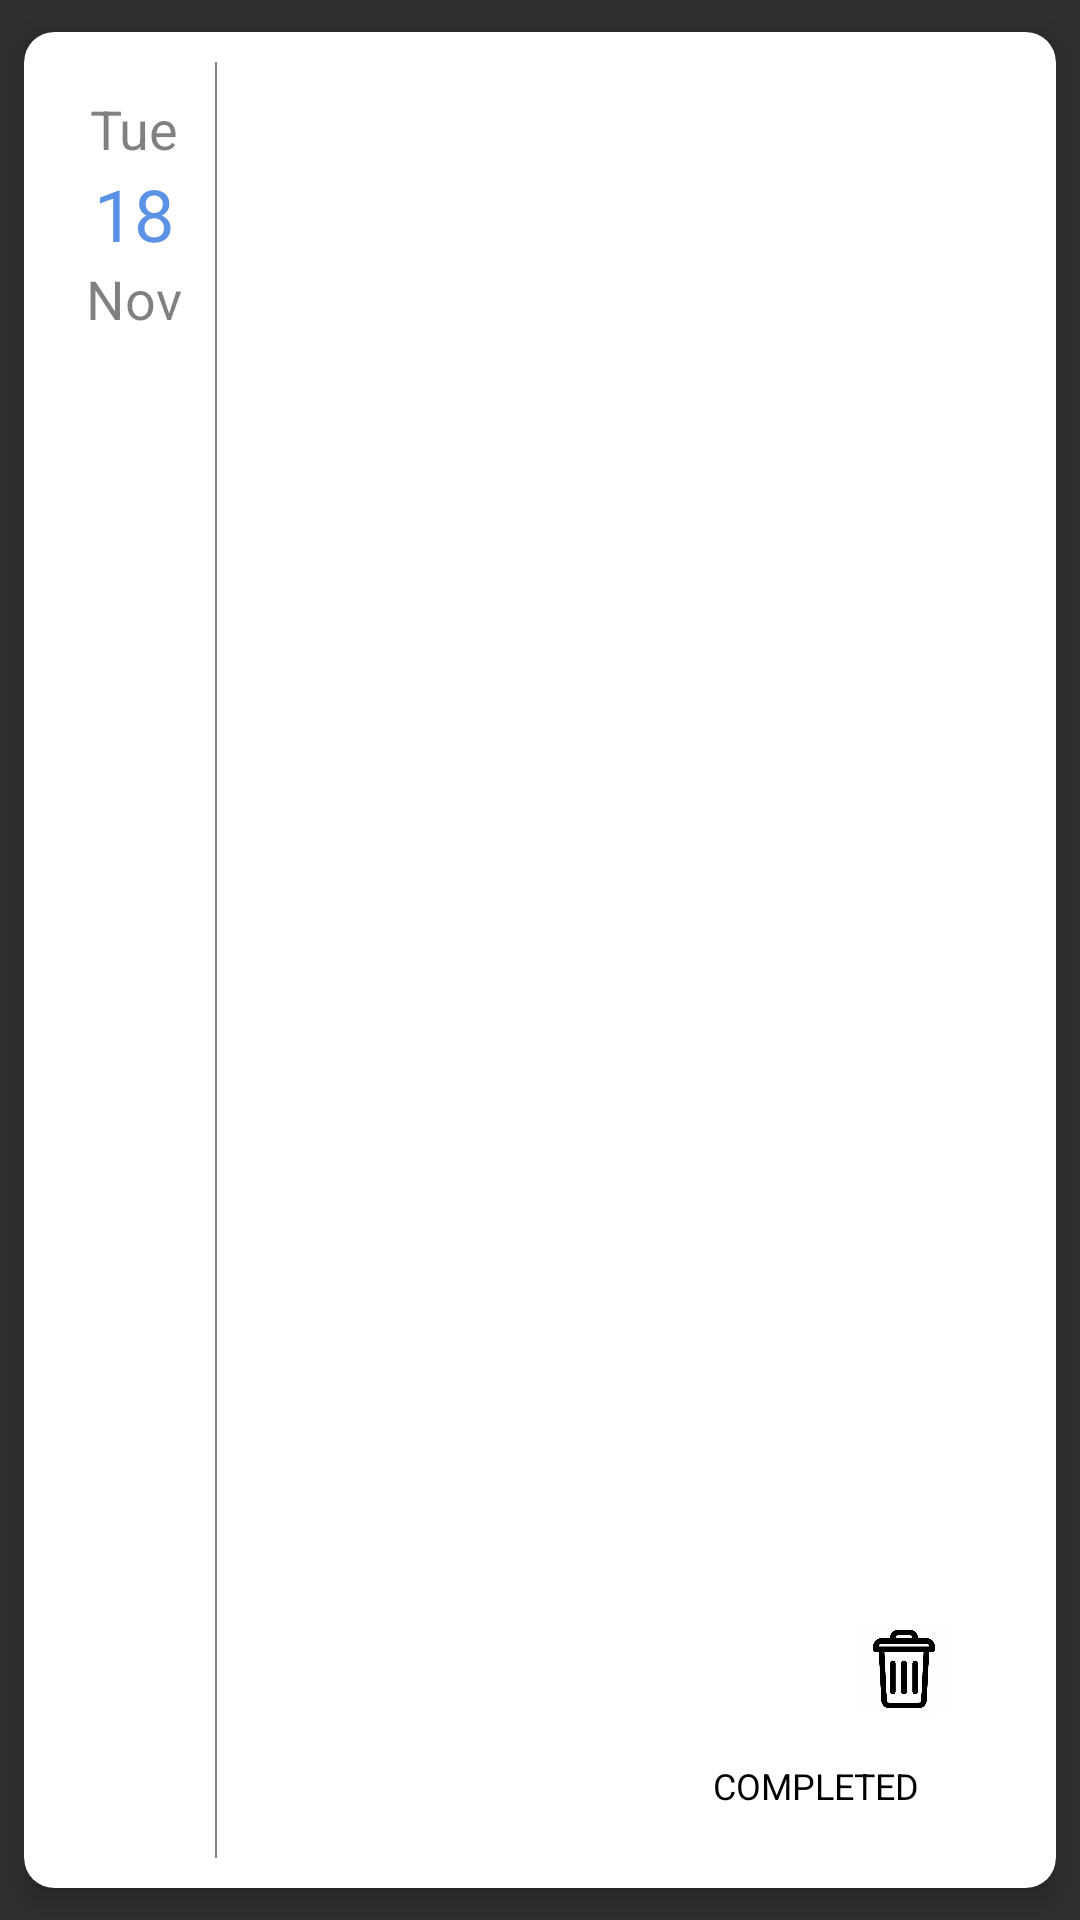

Icon click points for this 1080 x 1920 phone screenshot, format point (x, y):
trash: point (904, 1669)
